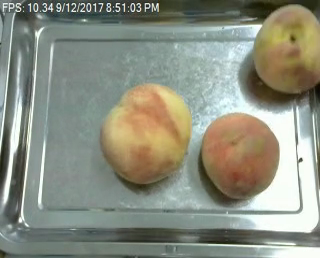Peach: (101, 83, 191, 183), (201, 111, 279, 198), (251, 4, 320, 94)
